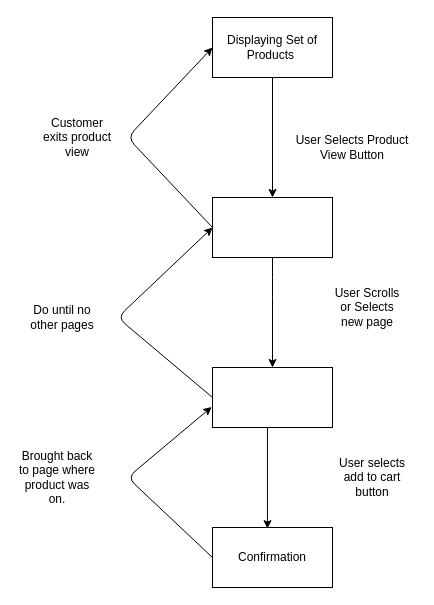
The diagram is 434 pixels wide and 605 high, and some of its shapes have lost their labels. The shapes that lost their labels are listed below. From the top down, each one's box as (x1, y1, x2, y2) in pixels, then its label:
(212, 196, 332, 258): Displaying specific product information
(212, 366, 332, 428): Displaying New Set of Products
